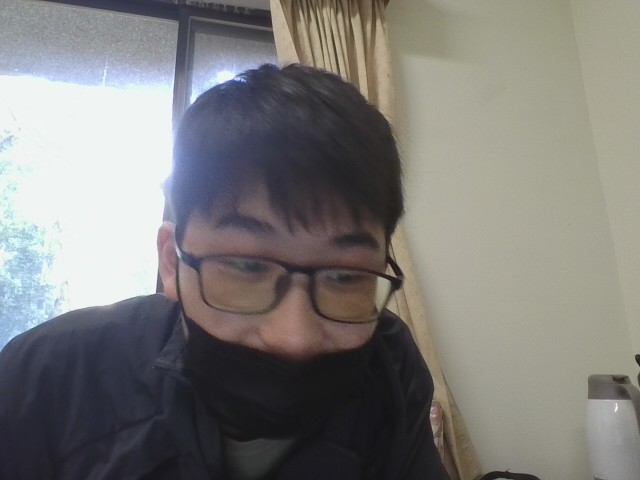No_Helmet: (155, 56, 411, 368)
person: (0, 42, 583, 479)
